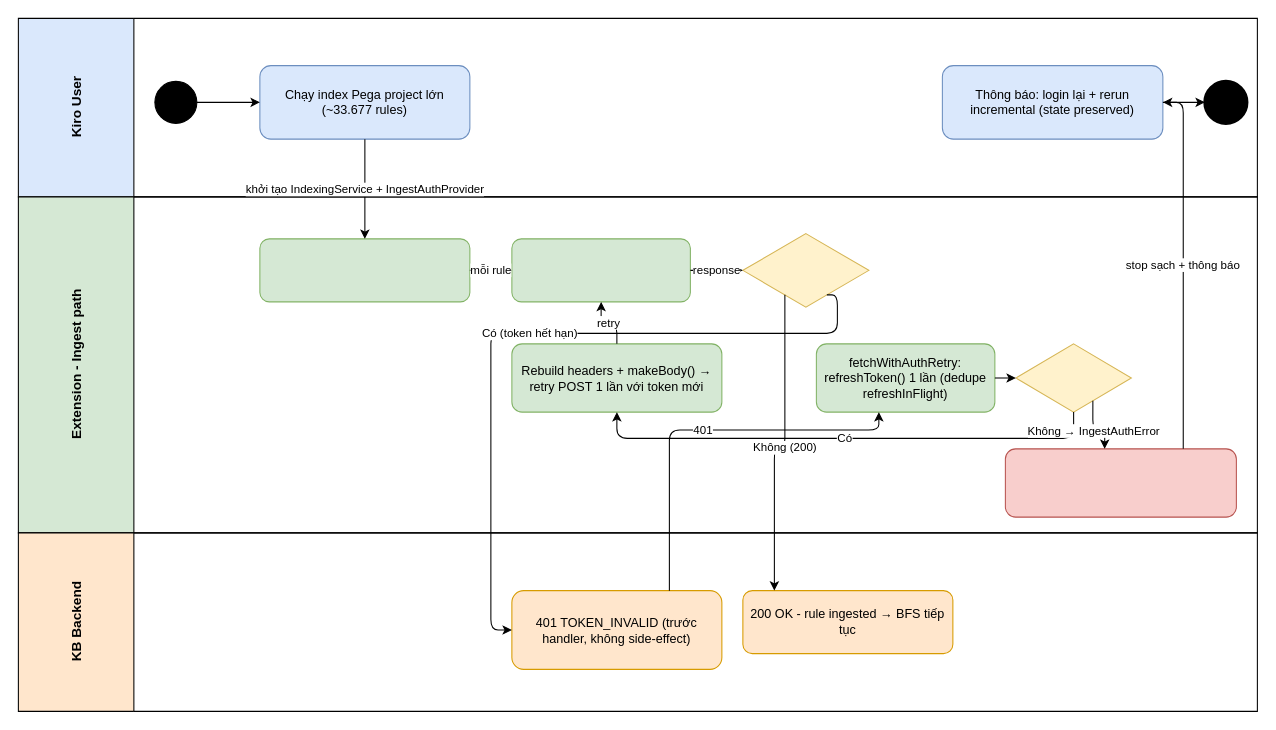
The diagram is 1276 pixels wide and 730 high, and some of its shapes have lost their labels. Here are the shapes that lost their labels. From the top down, the centre of each, then its label:
[364,270]: PegaBfsPipeline: BFS producer-consumer
[600,270]: Ingest POST /api/v1/pega/* với cached token
[805,270]: HTTP 401?
[1073,377]: Refresh OK?
[1120,482]: authDead = true → shouldStop hook (PipelineOptions): dừng BFS có kiểm soát
